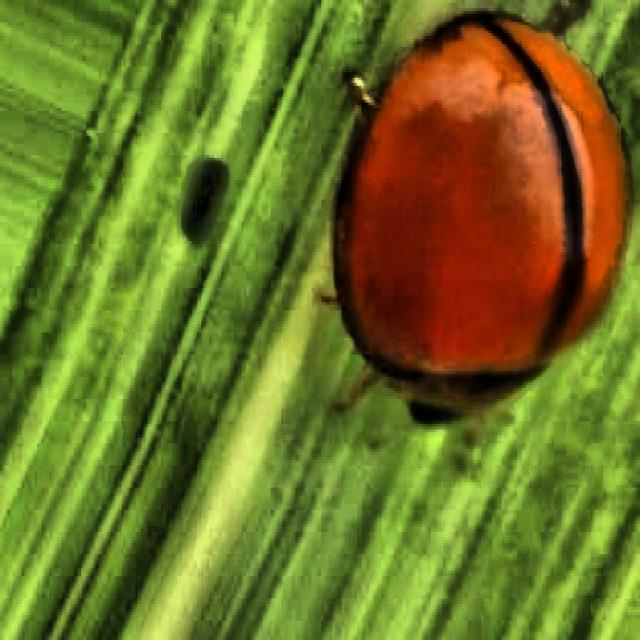Ladybug: (267, 1, 635, 492)
